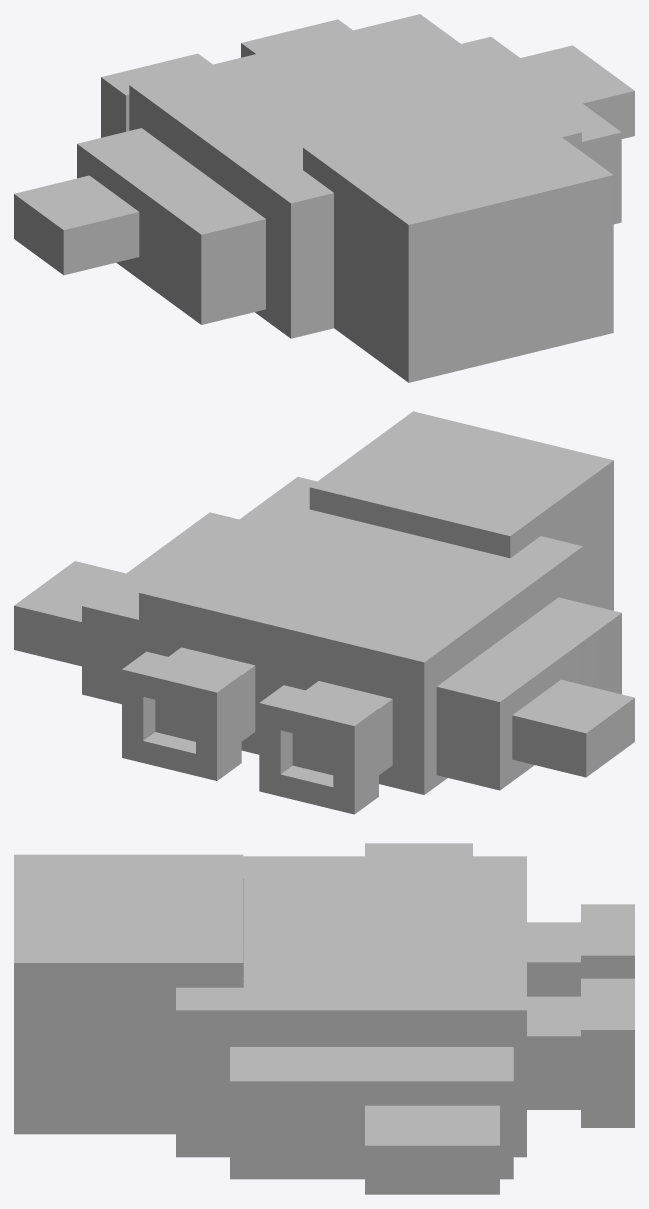
The model's file is spaceship small 3.fbx.
The picture shows the model from 3 angles, top to bottom: view 1: azimuth 30°, elevation 25°; view 2: azimuth 150°, elevation 25°; view 3: azimuth 270°, elevation 25°; orthographic projection. The views are drawn at different scales.
Parts seen in each view (by area): view 1: Spaceship small 3; view 2: Spaceship small 3; view 3: Spaceship small 3.
Boxes of the visible parts, box(x1,y1,x2,y2) form: Spaceship small 3: box(14, 14, 634, 382); Spaceship small 3: box(14, 411, 634, 814); Spaceship small 3: box(14, 843, 634, 1194).
Size of the model in its own units: 5300 by 1400 by 4600.
